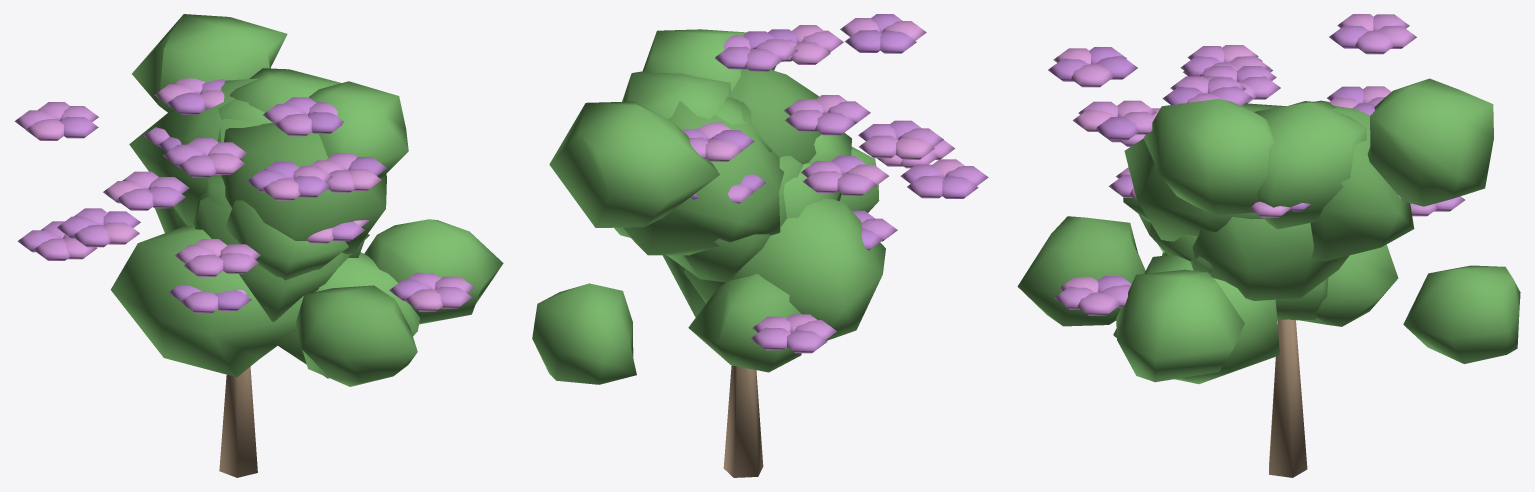
The model's file is blossom_2.glb.
3 renders of one model, left to right at view 1: azimuth 30°, elevation 25°; view 2: azimuth 150°, elevation 25°; view 3: azimuth 270°, elevation 25°, orthographic. The views are drawn at different scales.
Parts seen in each view (by area): view 1: blossom; view 2: blossom; view 3: blossom.
Boxes of the visible parts, <box> form: blossom: <box>14,14,503,477</box>; blossom: <box>532,14,988,477</box>; blossom: <box>1017,14,1520,477</box>.
Bounding box in the file's own units: 0.6355 × 0.5875 × 0.6623.
